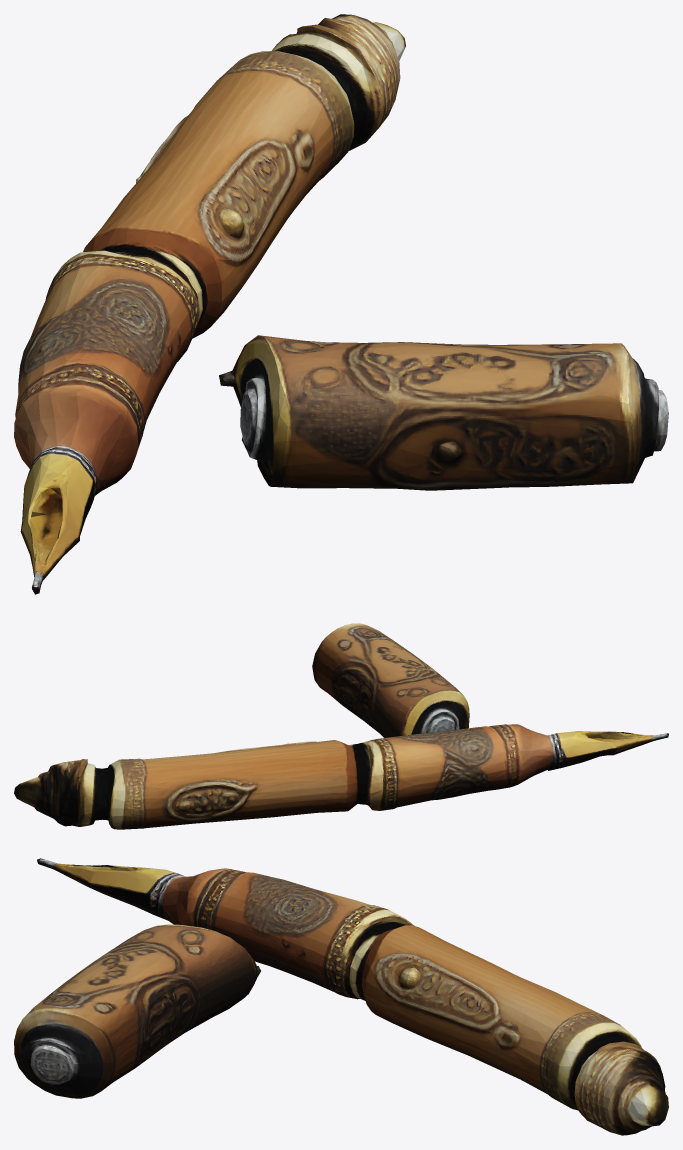
File: natural-ink-dip-pen-3d.jpeg.glb
3 views of the same model, one above another, from view 1: azimuth 30°, elevation 25°; view 2: azimuth 150°, elevation 25°; view 3: azimuth 270°, elevation 25° (orthographic). The views are drawn at different scales.
Visible parts, largest first — view 1: world; view 2: world; view 3: world.
Part boxes in pixels (box(x1,y1,x2,y2)): world: box(14, 14, 668, 594); world: box(14, 623, 668, 829); world: box(14, 858, 668, 1135).
Size of the model in its own units: 0.9928 by 0.15 by 1.
1 material, 1 textured.
